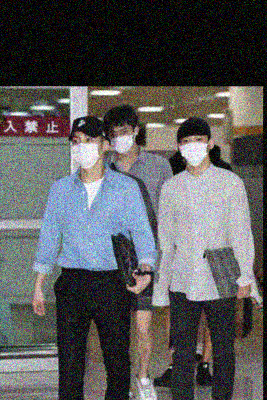with_mask: (71, 131, 102, 169), (180, 135, 209, 166), (108, 125, 136, 154)
